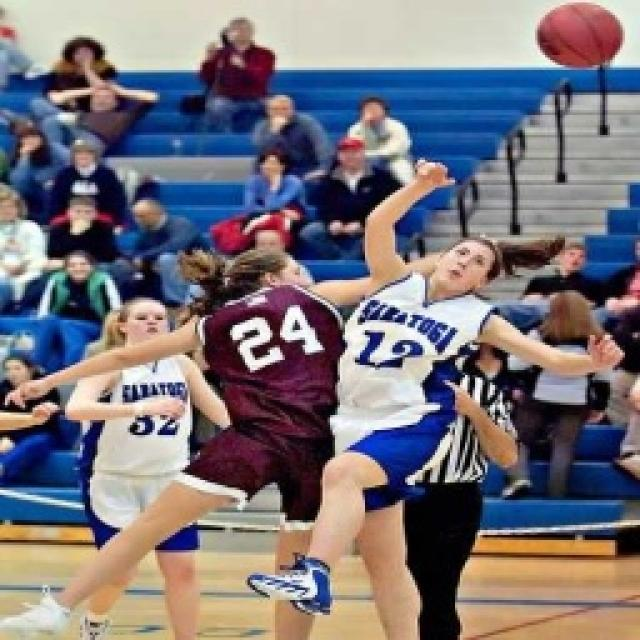basketball: (530, 0, 632, 75)
